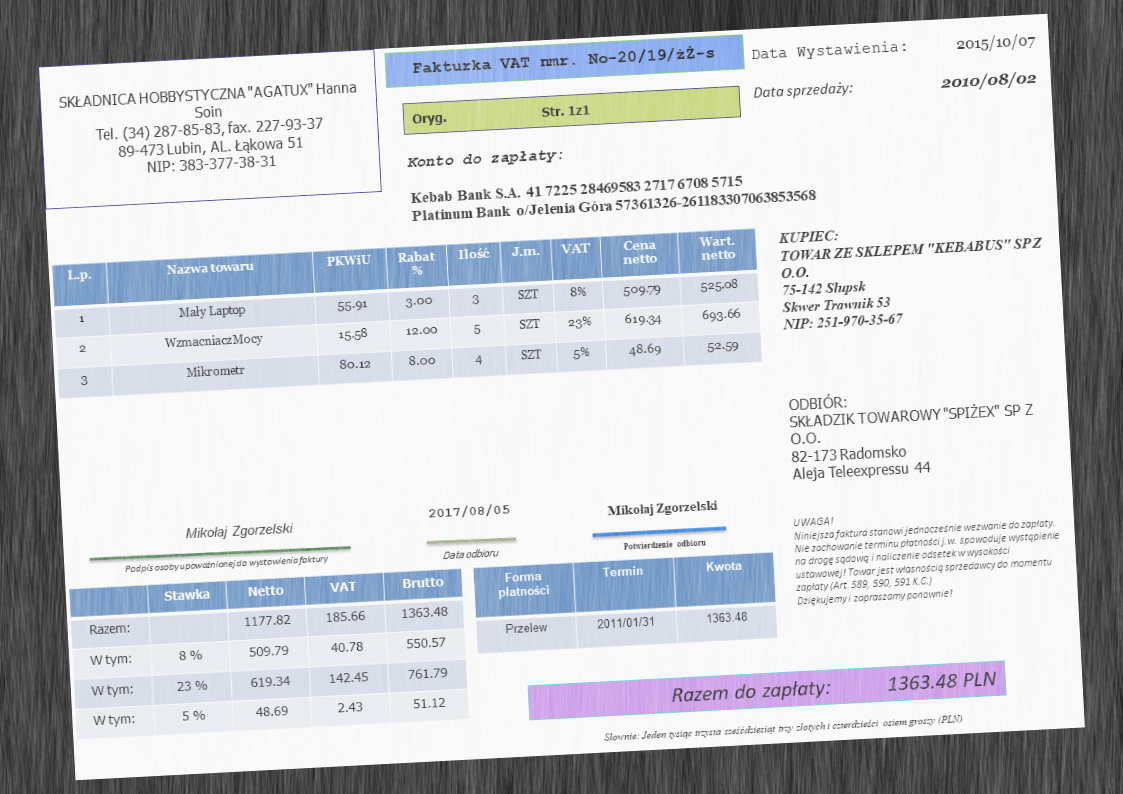Table: (50, 227, 764, 401), (66, 567, 472, 740), (471, 550, 779, 657)
TextBox: (775, 214, 1054, 335), (56, 77, 363, 184), (790, 503, 1064, 609), (785, 379, 1040, 487), (407, 167, 819, 225), (668, 666, 999, 709), (601, 710, 966, 745), (409, 42, 718, 78), (409, 100, 593, 130), (122, 551, 332, 575), (403, 144, 567, 173), (749, 37, 908, 65), (603, 496, 720, 521), (183, 519, 298, 543), (938, 68, 1039, 95), (750, 79, 854, 103), (424, 499, 512, 524), (953, 31, 1038, 56), (619, 535, 708, 553), (440, 545, 502, 563)
